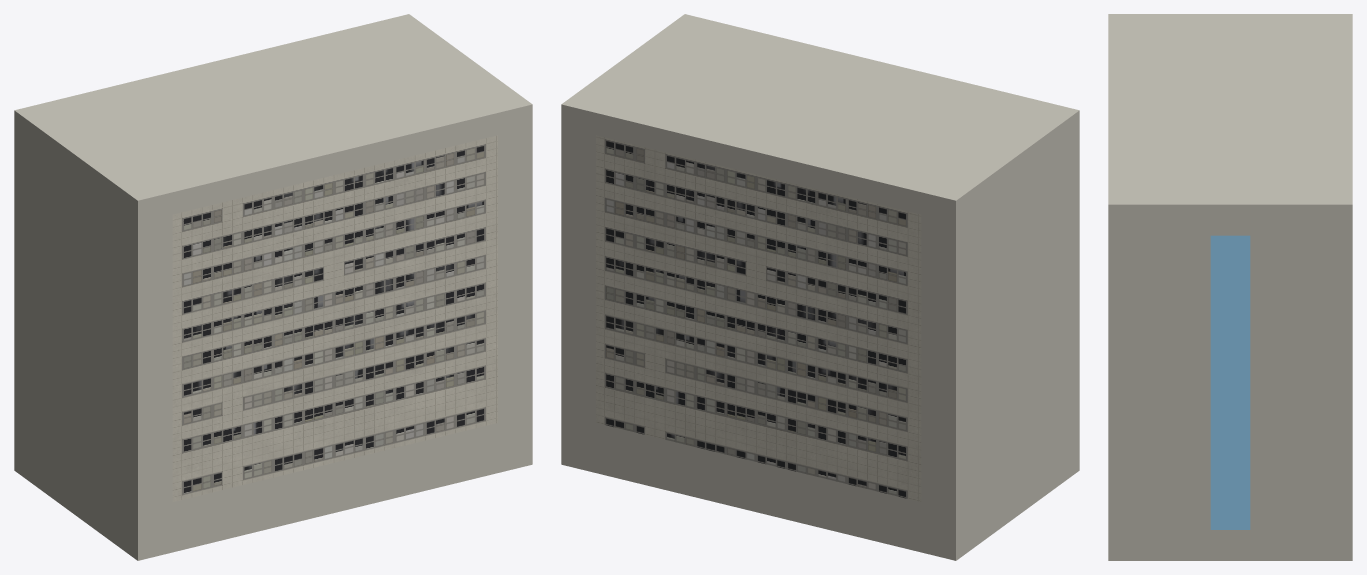
File: Flat1.fbx
3 views of the same model, side by side, from view 1: azimuth 30°, elevation 25°; view 2: azimuth 150°, elevation 25°; view 3: azimuth 270°, elevation 25° (orthographic).
Parts seen in each view (by area): view 1: Cube.004; view 2: Cube.004; view 3: Cube.004.
Boxes of the visible parts, bbox=[...] form: Cube.004: bbox=[14, 14, 532, 560]; Cube.004: bbox=[561, 14, 1079, 560]; Cube.004: bbox=[1108, 14, 1352, 560].
Size of the model in its own units: 424 by 369 by 230.
3 materials, 1 textured.
